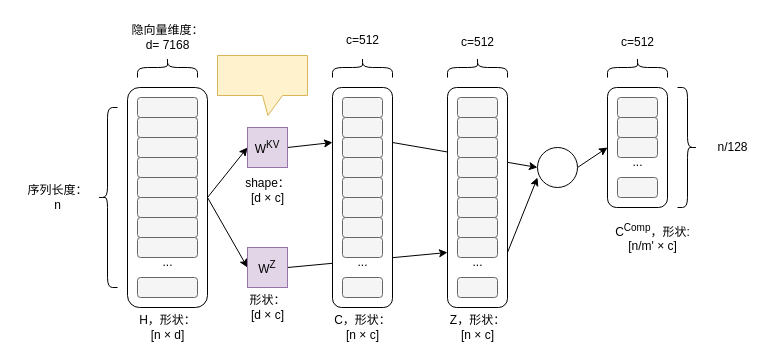
This 774x364 diagram has some shape labels left out. The box of each missing label's shape, as (x1, y1, x2, y2) in pixels:
DSv4论文公式 （20）、（21）: (216, 54, 308, 116)
压缩: (536, 146, 578, 188)
